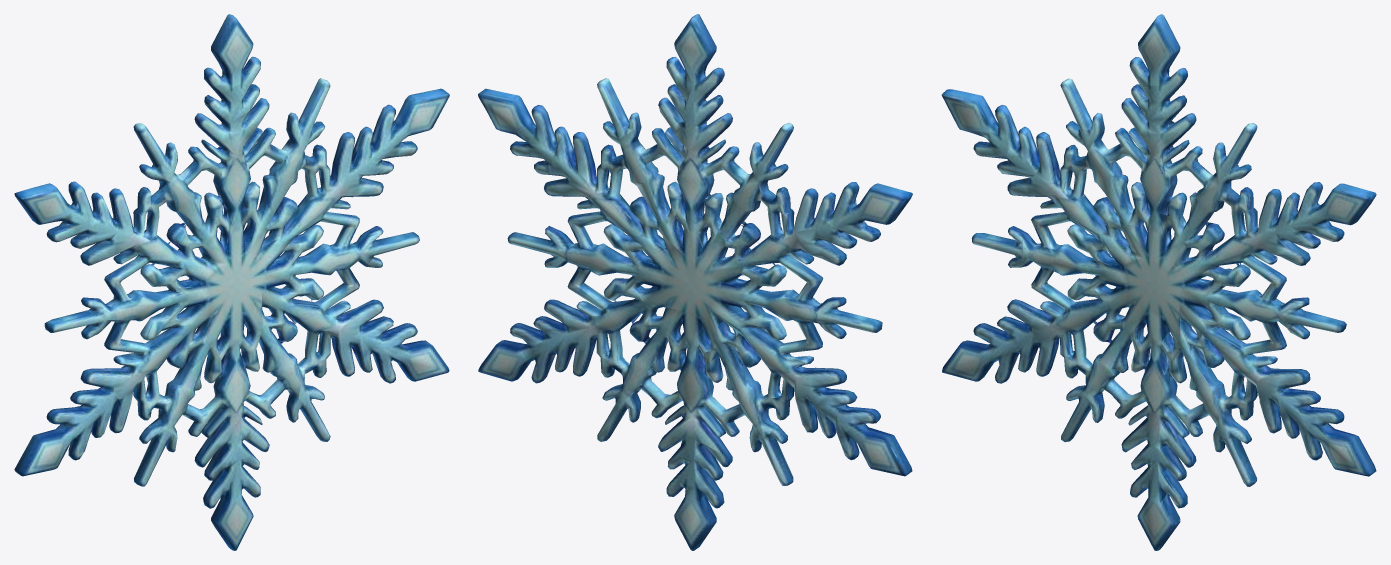
3 renders of one model, left to right at view 1: azimuth 30°, elevation 25°; view 2: azimuth 150°, elevation 25°; view 3: azimuth 330°, elevation 25°, orthographic.
Visible parts, largest first — view 1: Mesh1.0; view 2: Mesh1.0; view 3: Mesh1.0.
Boxes of the visible parts, left/top/right/bottom form: Mesh1.0: left=14, top=14, right=449, bottom=550; Mesh1.0: left=478, top=14, right=912, bottom=550; Mesh1.0: left=941, top=14, right=1376, bottom=550.
Bounding box in the file's own units: 1.61 × 1.91 × 0.0614.
Materials: 1 (1 with a texture image).
